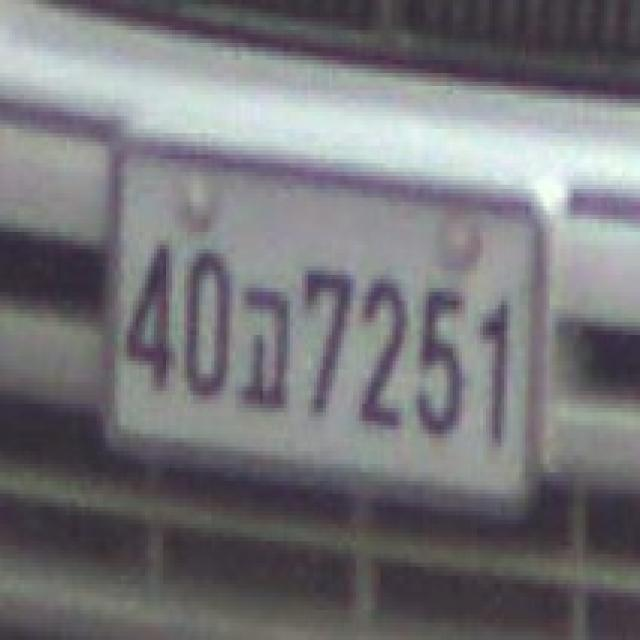0: (181, 245, 230, 399)
1: (477, 296, 513, 456)
2: (356, 275, 408, 438)
4: (121, 240, 175, 386)
5: (410, 284, 465, 438)
7: (302, 262, 356, 417)
go: (238, 279, 287, 417)
license_plate: (100, 133, 537, 520)
